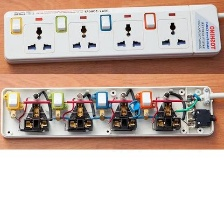three_eye_plug: (0, 1, 223, 65), (0, 80, 216, 142)
